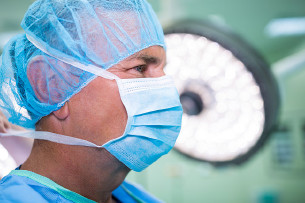face_mask: (68, 22, 182, 171)
